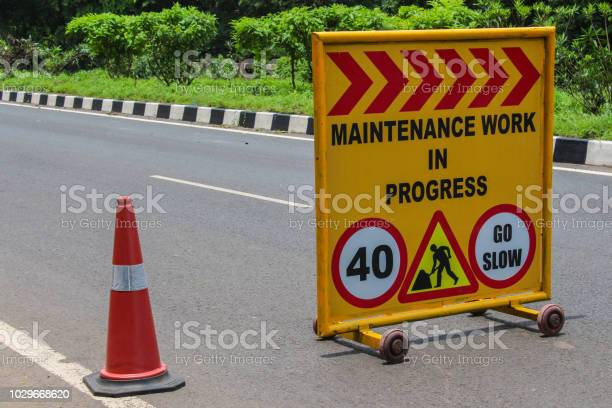caution: (395, 209, 480, 306)
